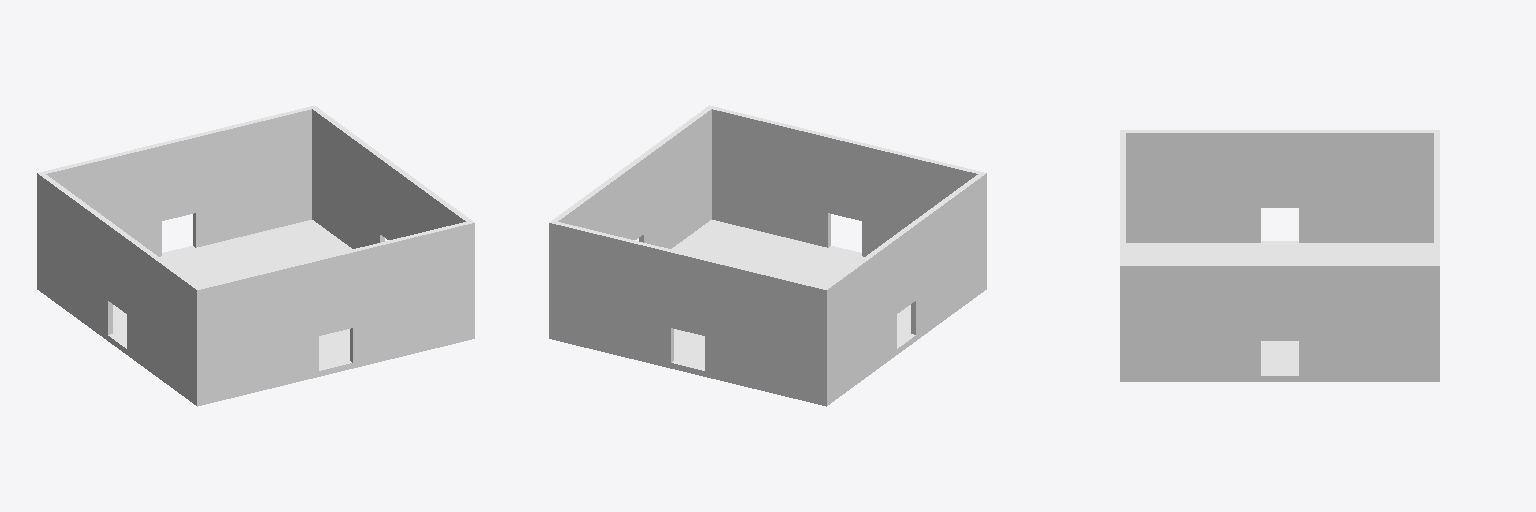
Rendered from tutorial_area.obj.
3 renders of one model, left to right at view 1: azimuth 30°, elevation 25°; view 2: azimuth 150°, elevation 25°; view 3: azimuth 270°, elevation 25°, orthographic.
Parts seen in each view (by area): view 1: tutorial_area; view 2: tutorial_area; view 3: tutorial_area.
Part boxes in pixels (x1,y1,x2,y2): tutorial_area: (37,105,474,406); tutorial_area: (549,105,986,406); tutorial_area: (1120,130,1439,381).
Bounding box in the file's own units: 50 × 20 × 50.